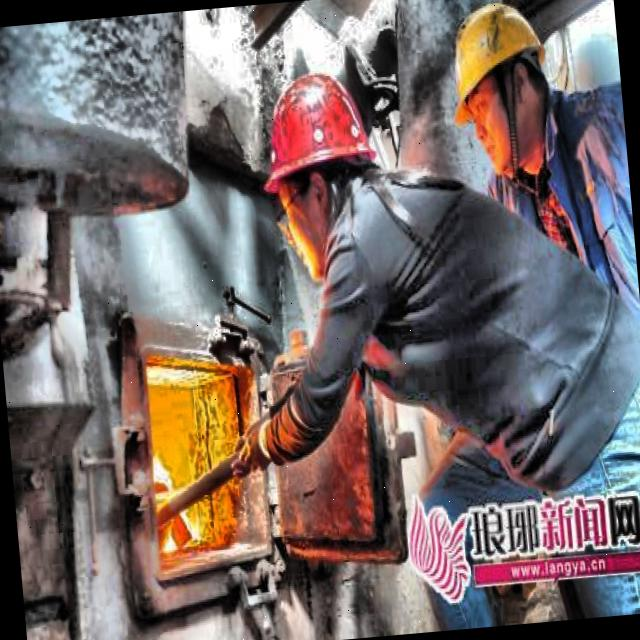helmet: (253, 59, 389, 272), (434, 0, 567, 184)
